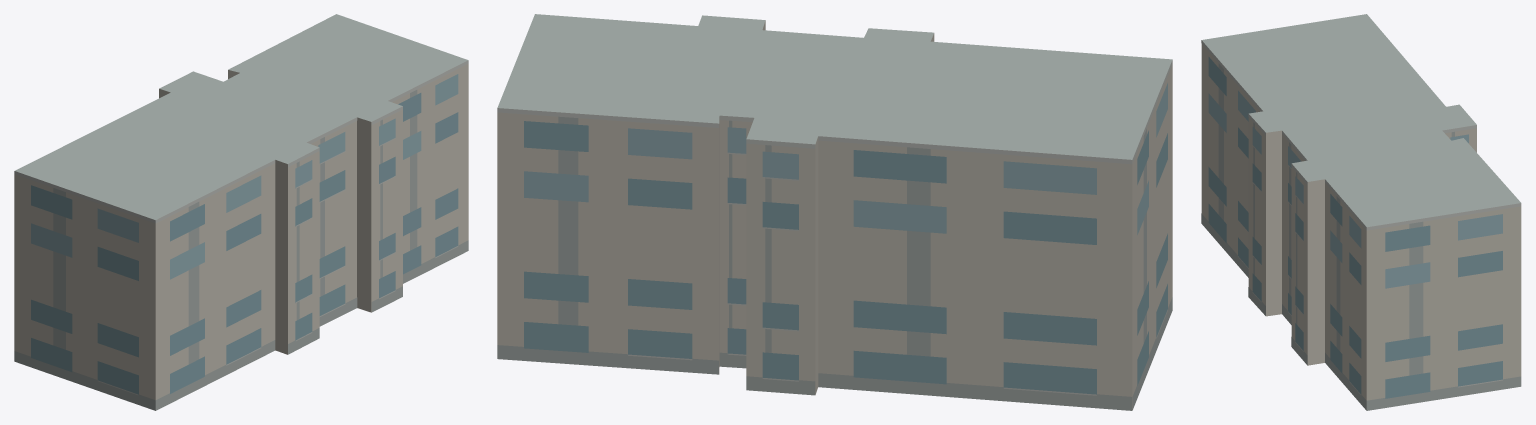
The model's file is survey-upis-32861546.glb.
3 views of the same model, side by side, from view 1: azimuth 30°, elevation 25°; view 2: azimuth 150°, elevation 25°; view 3: azimuth 270°, elevation 25° (orthographic). The views are drawn at different scales.
Parts seen in each view (by area): view 1: survey-upis-32861546.tmp; view 2: survey-upis-32861546.tmp; view 3: survey-upis-32861546.tmp.
Boxes of the visible parts, left/top/right/bottom form: survey-upis-32861546.tmp: left=14, top=14, right=468, bottom=410; survey-upis-32861546.tmp: left=497, top=14, right=1172, bottom=410; survey-upis-32861546.tmp: left=1201, top=14, right=1521, bottom=410.
Bounding box in the file's own units: 34.39 × 13.8 × 21.8.
